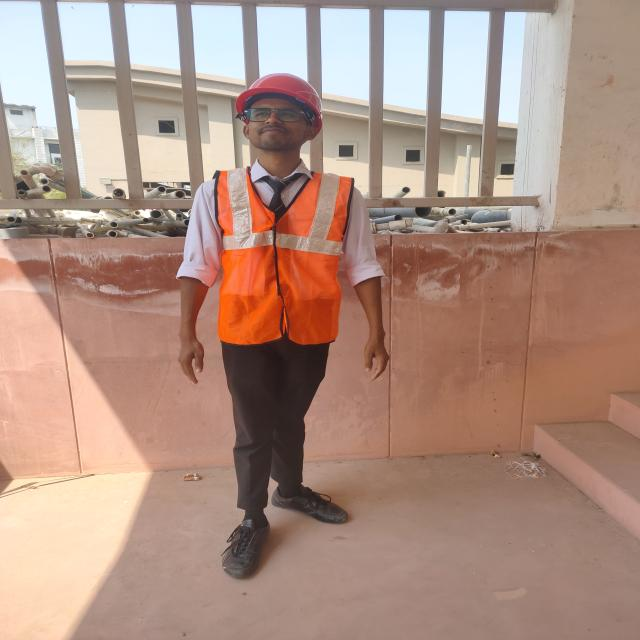safe: (180, 74, 382, 578)
